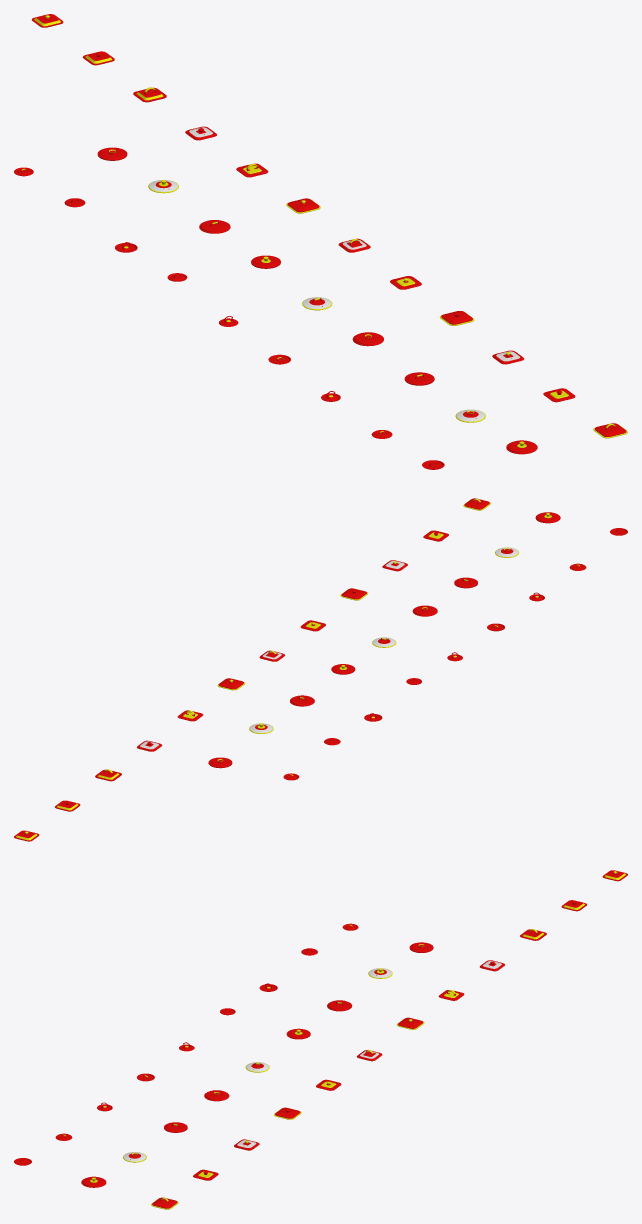
Rendered from pot_lids_grp.fbx.
The picture shows the model from 3 angles, top to bottom: view 1: azimuth 30°, elevation 25°; view 2: azimuth 150°, elevation 25°; view 3: azimuth 330°, elevation 25°; orthographic projection. The views are drawn at different scales.
Size of the model in its own units: 225 by 16.04 by 1128.
